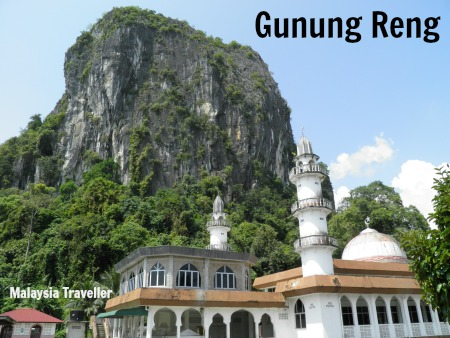Mosque: (120, 144, 405, 338)
